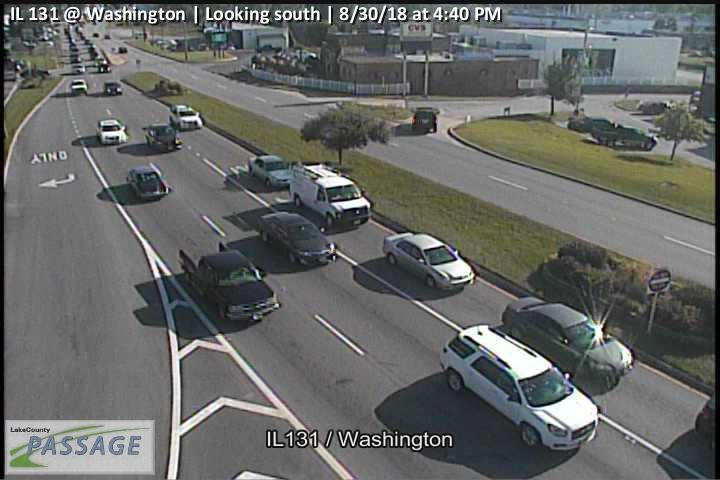SUV: (439, 323, 599, 452)
Sedan: (501, 293, 635, 388), (383, 231, 475, 291), (258, 210, 337, 270), (246, 154, 295, 189), (125, 165, 170, 199), (140, 123, 183, 153), (168, 101, 203, 130), (95, 118, 128, 144), (411, 106, 440, 133), (568, 116, 617, 131), (102, 80, 123, 96), (70, 77, 87, 92)
Truck: (179, 240, 283, 326), (290, 162, 374, 230), (591, 120, 659, 149)
